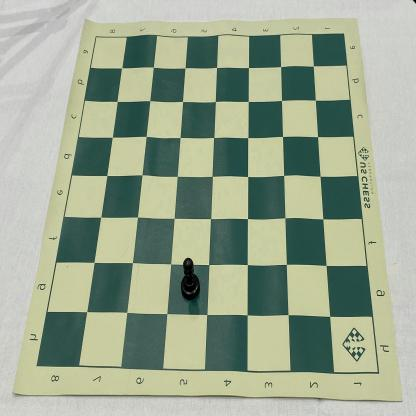black-pawn: (180, 257, 200, 300)
